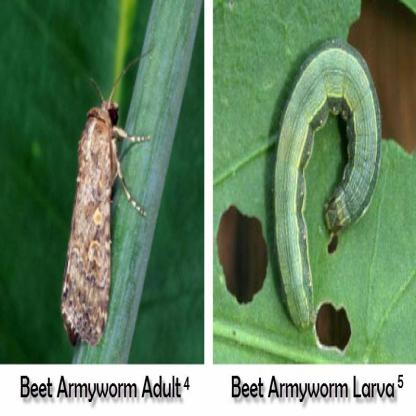armyworm: (273, 44, 384, 328), (57, 80, 151, 342)
